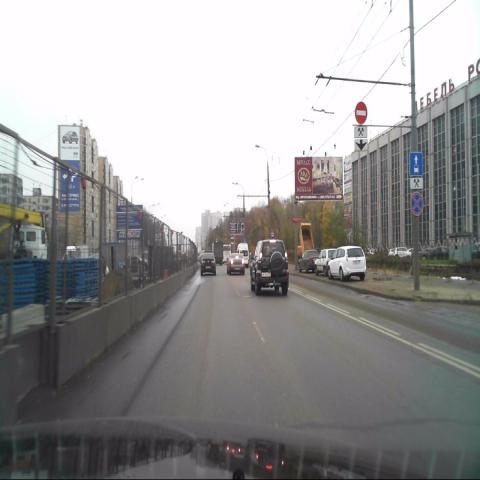5_14: (409, 153, 423, 176)
